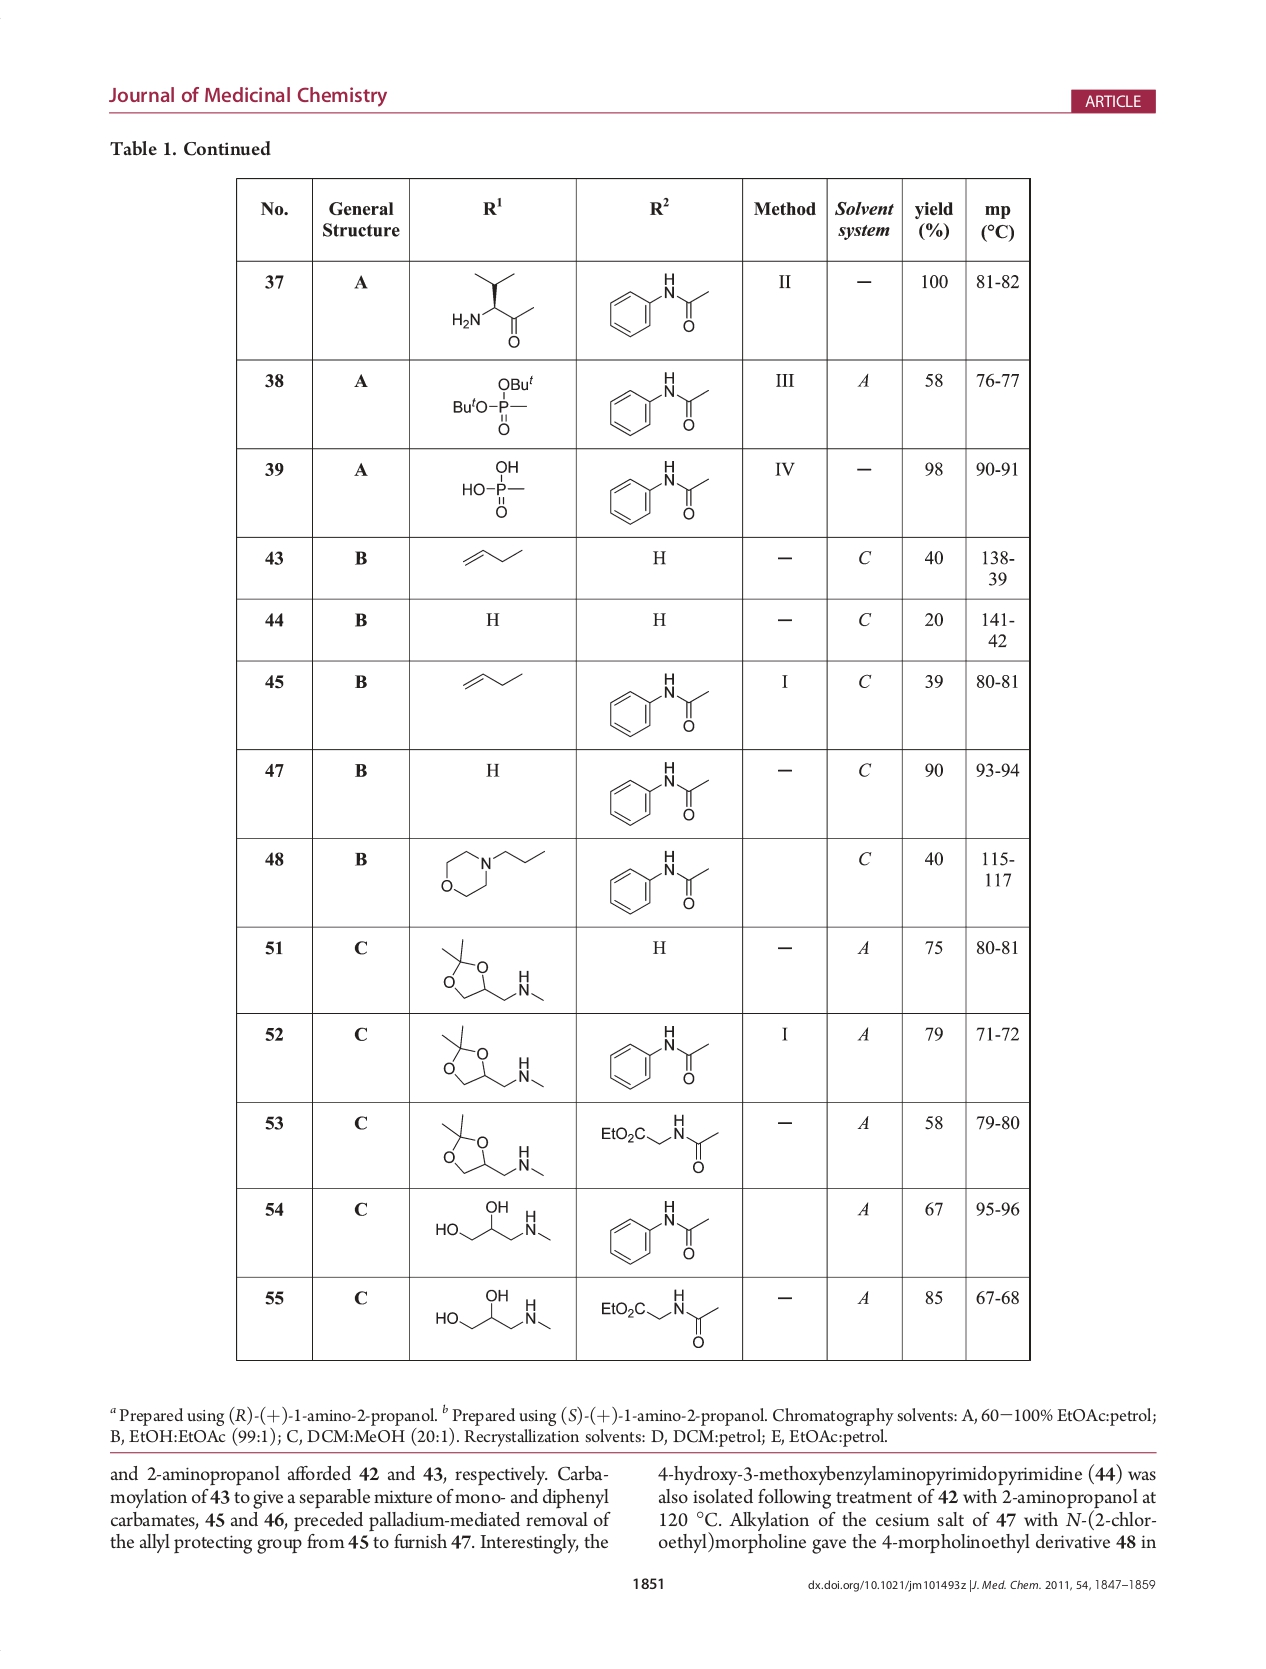exist_molecular: (598, 1283, 725, 1352), (436, 1110, 551, 1184), (605, 366, 713, 442), (436, 1023, 548, 1094), (606, 670, 715, 742), (602, 758, 711, 830), (600, 1112, 722, 1176), (445, 269, 539, 352), (602, 1197, 711, 1267), (606, 844, 711, 918), (602, 457, 713, 527), (605, 1021, 713, 1092), (606, 271, 710, 343), (439, 938, 547, 1007), (430, 844, 551, 902), (427, 1198, 553, 1247), (448, 370, 539, 438), (436, 1286, 553, 1331), (457, 459, 531, 521), (460, 545, 524, 572), (460, 668, 529, 692)
